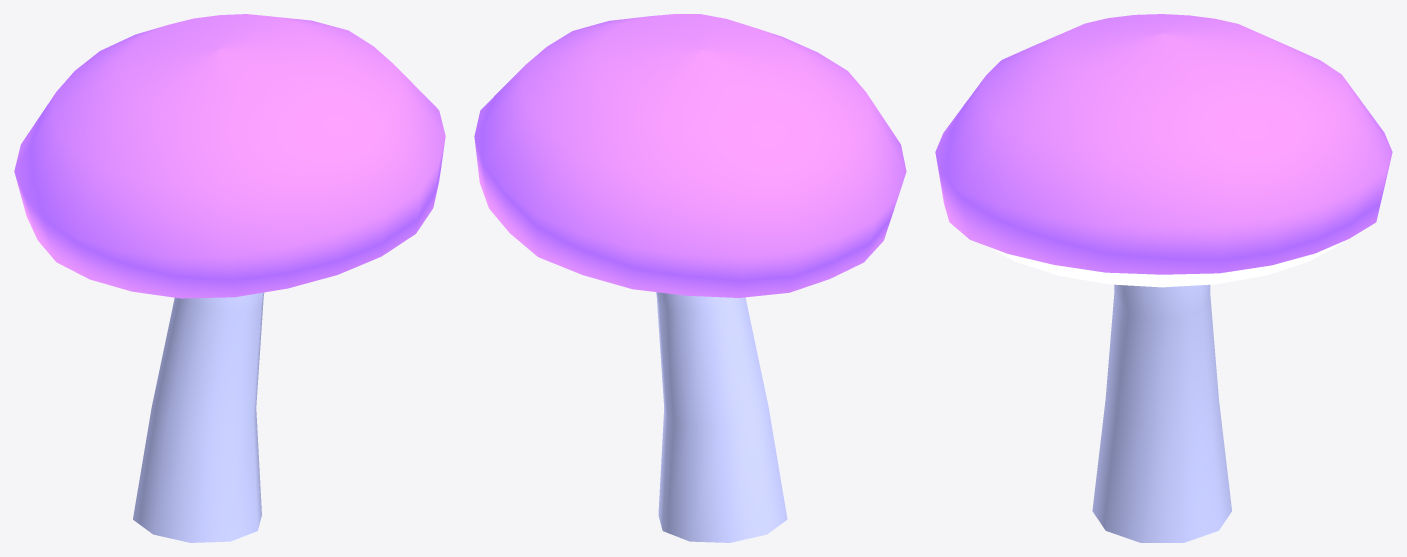
The model's file is mushroom_big.glb.
The picture shows the model from 3 angles, left to right: view 1: azimuth 30°, elevation 25°; view 2: azimuth 150°, elevation 25°; view 3: azimuth 270°, elevation 25°; orthographic projection. The views are drawn at different scales.
Visible parts, largest first — view 1: MushroomBig; view 2: MushroomBig; view 3: MushroomBig.
Boxes of the visible parts, x1,y1,x2,y2 form: MushroomBig: (14, 14, 445, 542); MushroomBig: (474, 14, 906, 542); MushroomBig: (935, 14, 1392, 542).
Bounding box in the file's own units: 0.4969 × 0.5975 × 0.5026.
